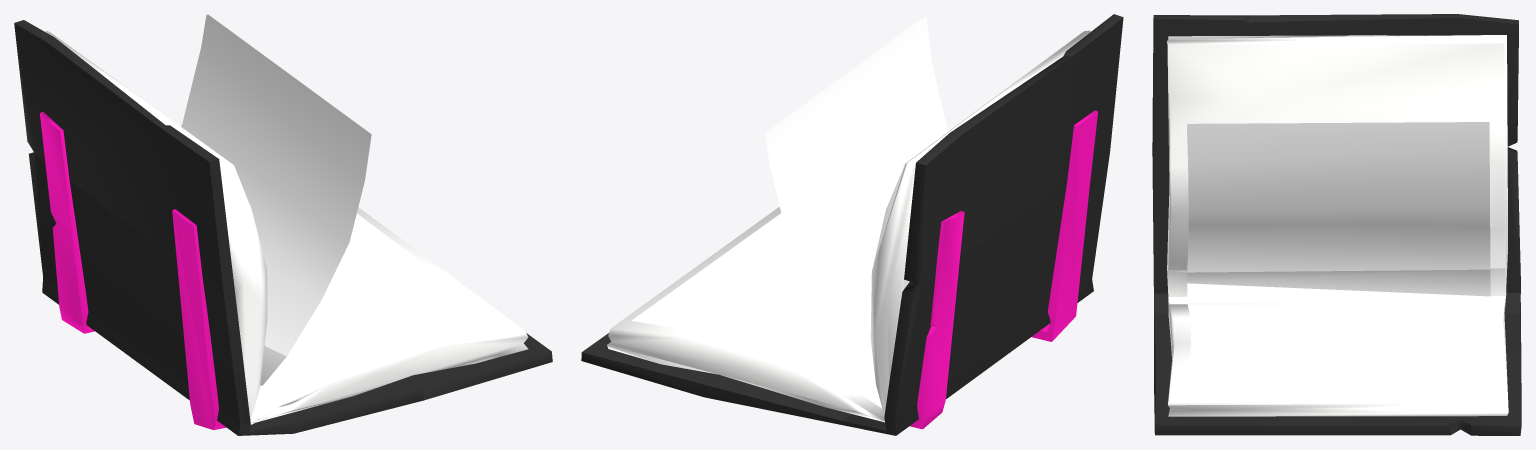
3 views of the same model, side by side, from view 1: azimuth 30°, elevation 25°; view 2: azimuth 150°, elevation 25°; view 3: azimuth 270°, elevation 25° (orthographic). The views are drawn at different scales.
Parts seen in each view (by area): view 1: CyberPunkGuestBookFlipping.001; view 2: CyberPunkGuestBookFlipping.001; view 3: CyberPunkGuestBookFlipping.001.
Part boxes in pixels (box(x1,y1,x2,y2)): CyberPunkGuestBookFlipping.001: box(14, 14, 552, 435); CyberPunkGuestBookFlipping.001: box(581, 14, 1123, 435); CyberPunkGuestBookFlipping.001: box(1152, 14, 1521, 435).
Size of what is drawn, in the model's own units: 0.3266 by 0.2728 by 0.3243.
Materials: 2 (2 with a texture image).
